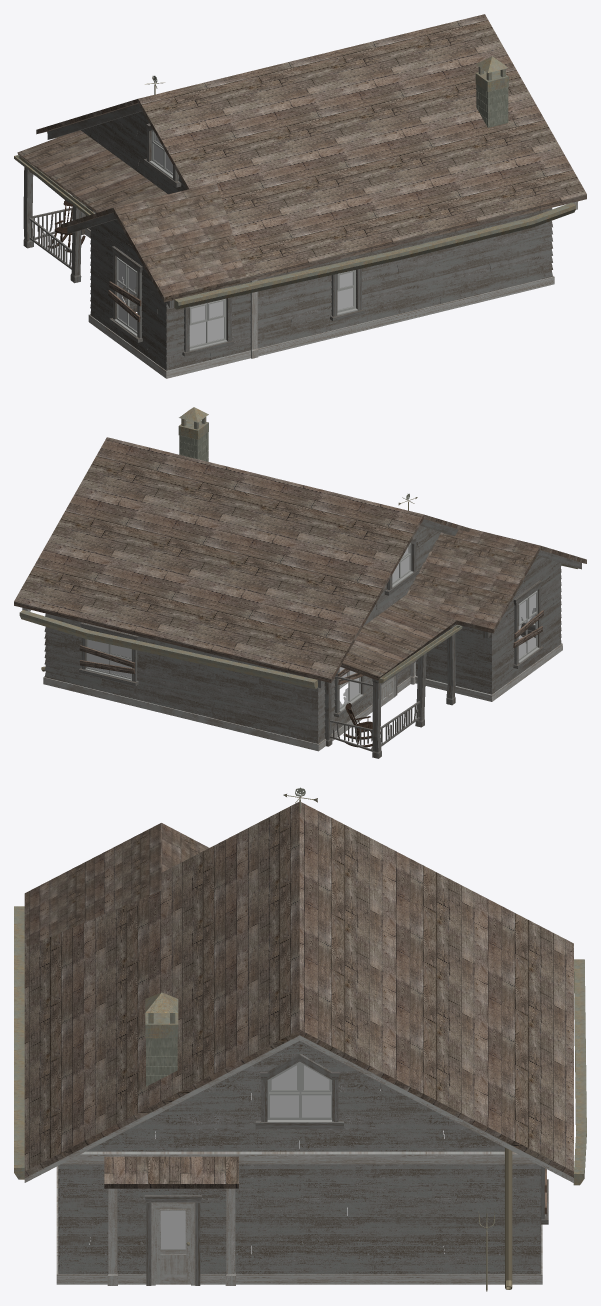
File: casa.obj
The picture shows the model from 3 angles, top to bottom: view 1: azimuth 30°, elevation 25°; view 2: azimuth 150°, elevation 25°; view 3: azimuth 270°, elevation 25°; orthographic projection. The views are drawn at different scales.
Visible parts, largest first — view 1: Cube.001_Cube.003, tablones_casa_Cube.006, Cube.003_Cube.001, tablones_hab_Cube.007, Cube.004_Cube.005, Plane.002_Plane.003, interior_casa.001_Cube.014, Window.004_Window.005, interior_hab.001_Cube.027, Cube.042_Cube.046, Cube.041_Cube.044, Cube.009 (+11 smaller); view 2: Cube.001_Cube.003, tablones_casa_Cube.006, Cube.003_Cube.001, tablones_hab_Cube.007, Cube.004_Cube.005, Plane.001_Plane.002, interior_casa.001_Cube.014, interior_hab.001_Cube.027, Cube.041_Cube.044, Plane.007_Plane.008, Cube.007_Cube, Cube.042_Cube.046 (+7 smaller); view 3: Cube.001_Cube.003, tablones_casa_Cube.006, Cube.003_Cube.001, interior_casa.002_Cube.064, interior_casa.001_Cube.014, Cube.049_Cube.063, Window.006_Window, Cube.011, Plane.002_Plane.003, Door.002_Door.001, Plane.001_Plane.002, Cube.041_Cube.044 (+8 smaller).
Boxes of the visible parts, <box> form: Cube.001_Cube.003: <box>36,14,586,283</box>; tablones_casa_Cube.006: <box>81,111,552,348</box>; Cube.003_Cube.001: <box>61,183,245,302</box>; tablones_hab_Cube.007: <box>90,219,250,370</box>; Cube.004_Cube.005: <box>17,130,167,212</box>; Plane.002_Plane.003: <box>174,202,575,309</box>; interior_casa.001_Cube.014: <box>85,228,554,356</box>; Window.004_Window.005: <box>189,298,227,350</box>; interior_hab.001_Cube.027: <box>88,314,250,378</box>; Cube.042_Cube.046: <box>476,84,508,127</box>; Cube.041_Cube.044: <box>475,56,508,91</box>; Cube.009: <box>47,103,142,139</box>; Cube.001_Cube.003: <box>14,437,470,682</box>; tablones_casa_Cube.006: <box>44,526,440,743</box>; Cube.003_Cube.001: <box>407,528,586,633</box>; tablones_hab_Cube.007: <box>416,556,561,694</box>; Cube.004_Cube.005: <box>340,594,456,680</box>; Plane.001_Plane.002: <box>19,610,317,688</box>; interior_casa.001_Cube.014: <box>43,676,410,751</box>; interior_hab.001_Cube.027: <box>415,643,562,701</box>; Cube.041_Cube.044: <box>178,407,208,439</box>; Plane.007_Plane.008: <box>87,640,131,677</box>; Cube.007_Cube: <box>372,678,381,758</box>; Cube.042_Cube.046: <box>179,432,208,461</box>; Cube.001_Cube.003: <box>24,802,573,1177</box>; tablones_casa_Cube.006: <box>58,1041,541,1274</box>; Cube.003_Cube.001: <box>24,823,208,946</box>; interior_casa.002_Cube.064: <box>61,1151,536,1164</box>; interior_casa.001_Cube.014: <box>56,1166,542,1284</box>; Cube.049_Cube.063: <box>104,1156,238,1188</box>; Window.006_Window: <box>267,1061,333,1122</box>; Cube.011: <box>24,1035,573,1182</box>; Plane.002_Plane.003: <box>14,906,24,1179</box>; Door.002_Door.001: <box>155,1206,190,1284</box>; Plane.001_Plane.002: <box>573,959,586,1185</box>; Cube.041_Cube.044: <box>145,992,178,1038</box>.
Bounding box in the file's own units: 15.25 × 7.41 × 13.06.
9 materials, 7 textured.
